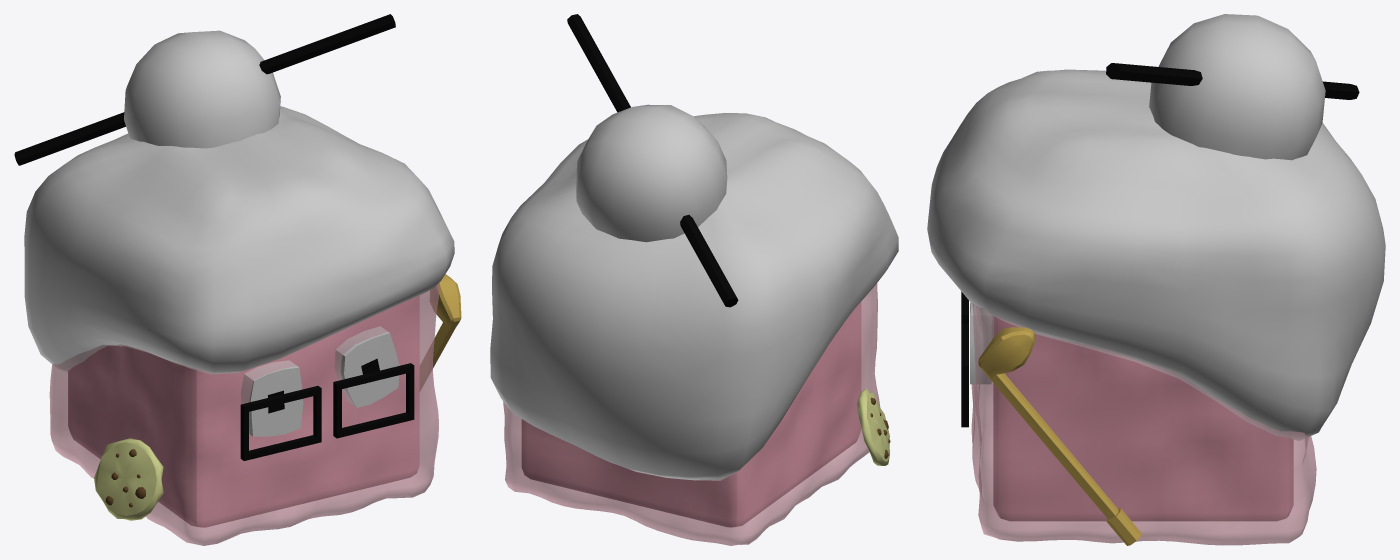
File: Granny_v3.fbx
3 renders of one model, left to right at view 1: azimuth 30°, elevation 25°; view 2: azimuth 150°, elevation 25°; view 3: azimuth 270°, elevation 25°, orthographic. The views are drawn at different scales.
Visible parts, largest first — view 1: Hair, Granny, Cubo, Bun, Cookie, Bun_Stick, Eyes, Eyes1, Glass_1, Glass_2, Cane; view 2: Hair, Granny, Cubo, Bun, Bun_Stick, Cookie; view 3: Hair, Granny, Cubo, Bun, Cane, Bun_Stick, Eyes1, Glass_1.
Boxes of the visible parts, x1,y1,x2,y2 form: Hair: (24,106,454,374); Granny: (49,282,439,545); Cubo: (68,296,419,527); Bun: (124,30,280,148); Cookie: (94,438,163,520); Bun_Stick: (14,14,395,165); Eyes: (240,360,303,436); Eyes1: (334,326,399,407); Glass_1: (333,363,414,438); Glass_2: (240,386,321,460); Cane: (420,274,461,390); Hair: (490,113,898,480); Granny: (503,283,880,545); Cubo: (521,302,861,527); Bun: (575,104,727,242); Bun_Stick: (567,14,738,307); Cookie: (857,388,889,465); Hair: (927,69,1385,440); Granny: (971,303,1316,545); Cubo: (993,316,1293,521); Bun: (1149,14,1325,160); Cane: (978,327,1141,545); Bun_Stick: (1106,63,1359,99); Eyes1: (970,303,991,384); Glass_1: (961,323,968,427).
Size of the model in its own units: 10.71 by 13.65 by 11.46.
